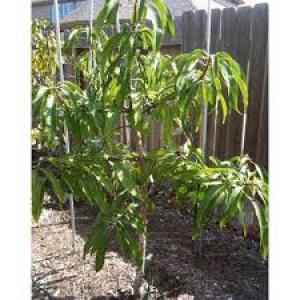Tree: (40, 15, 260, 285)
